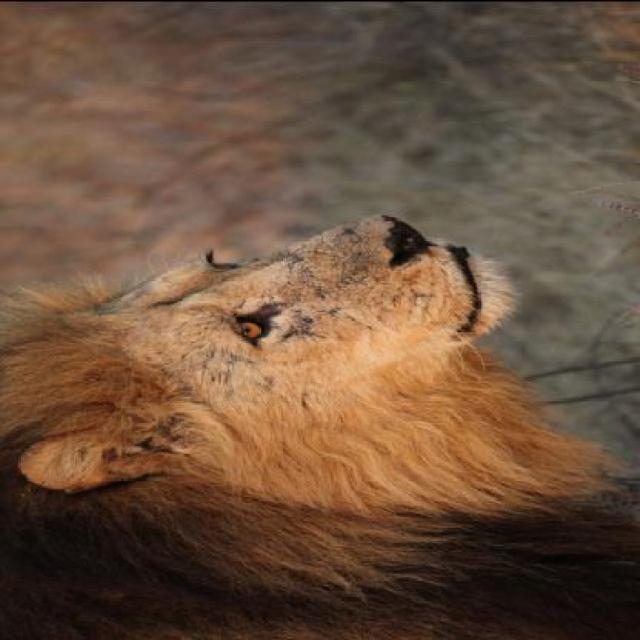Lion: (12, 204, 638, 638)
